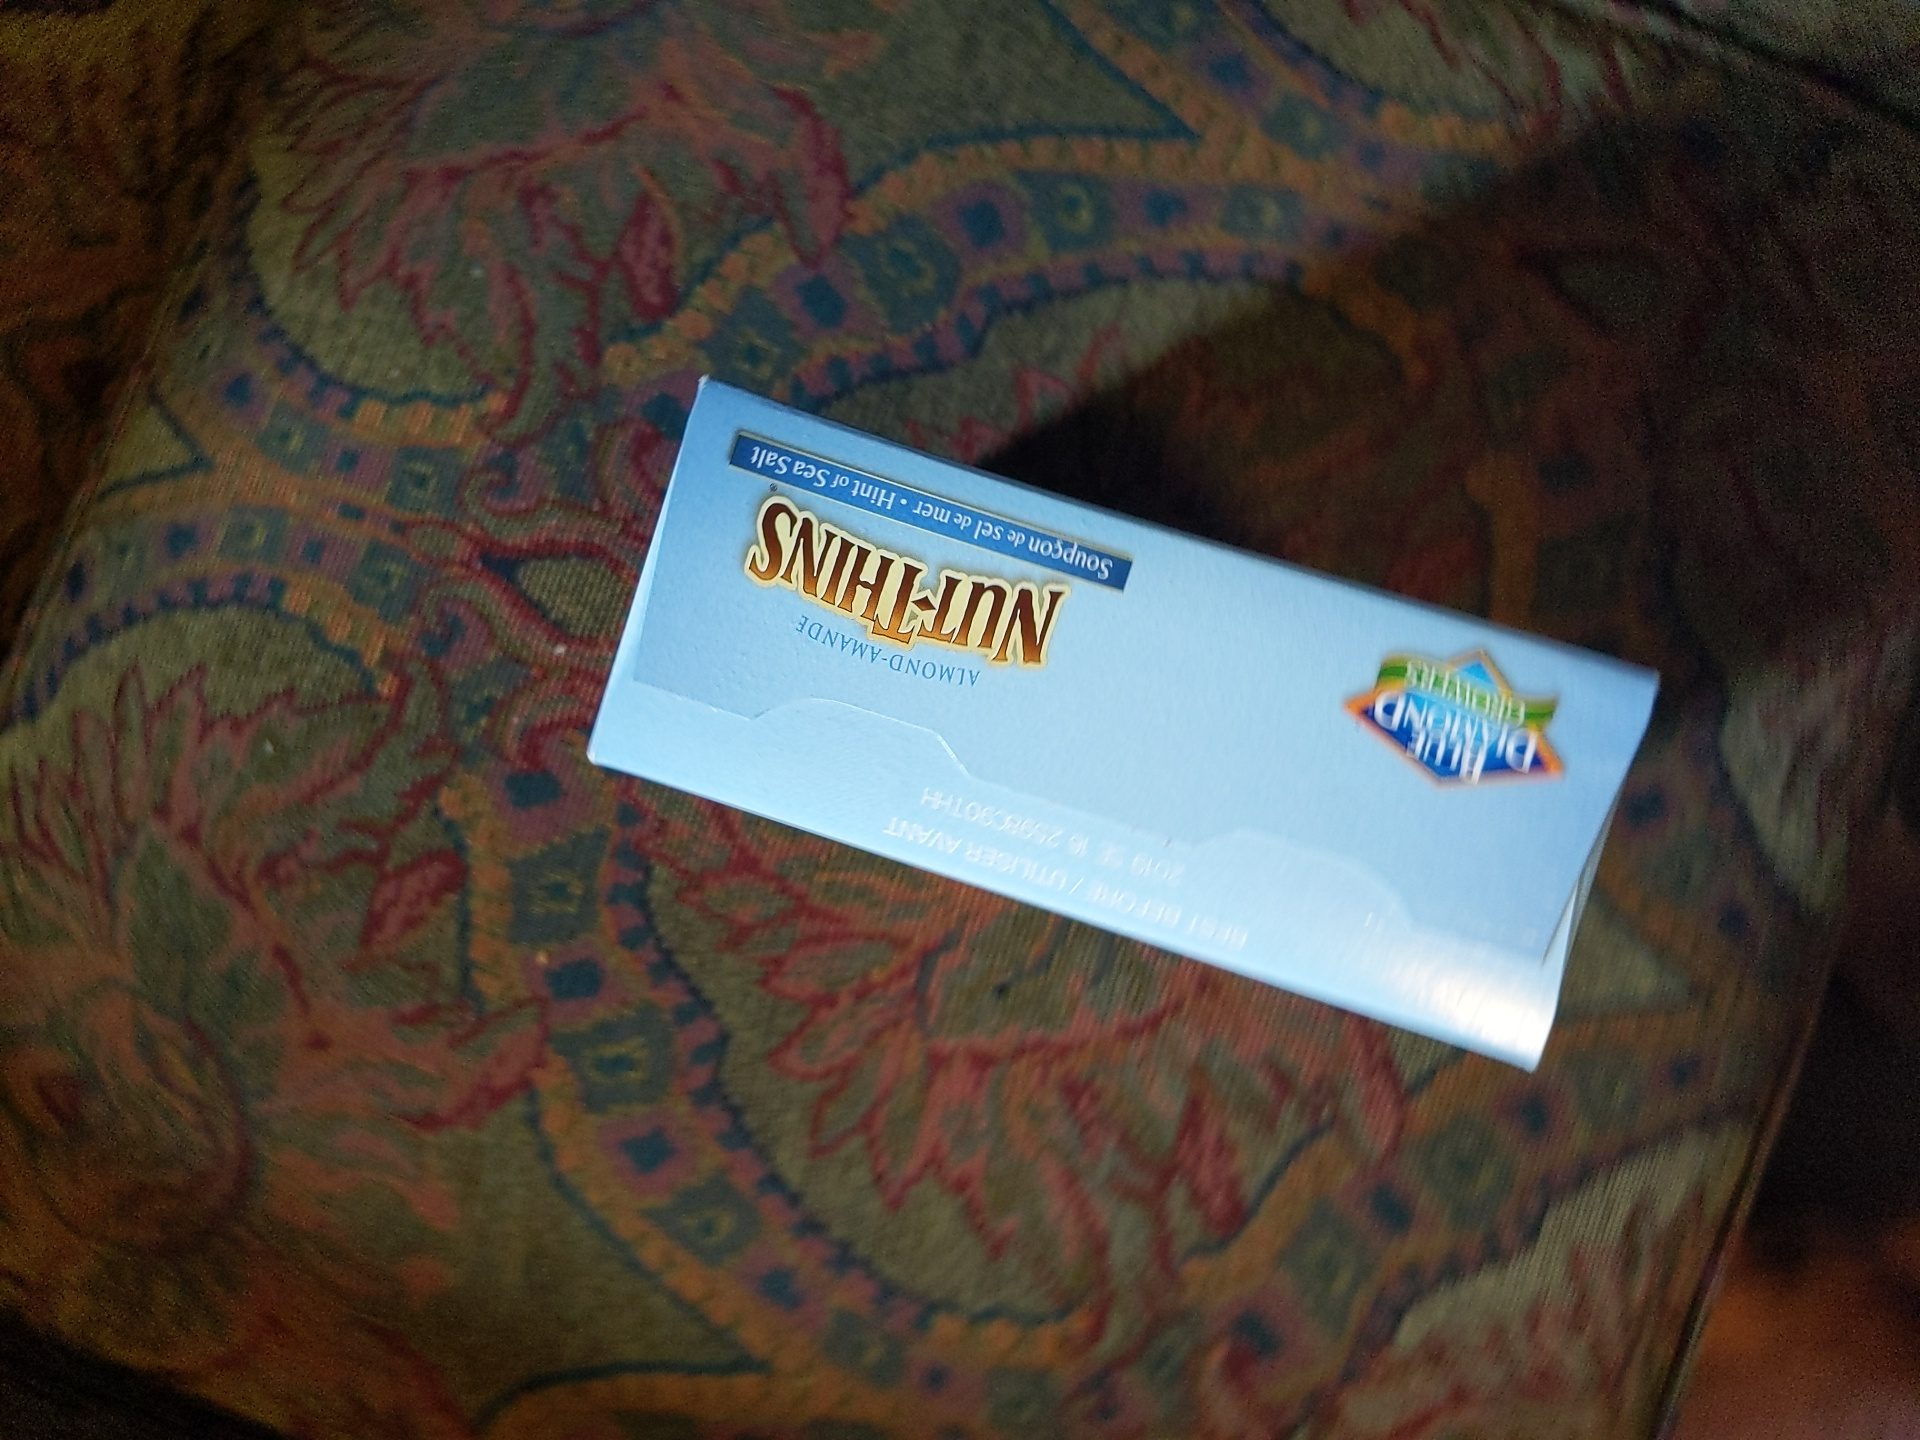blue_diamond_nut_thins_almond_seasalt: (627, 431, 1615, 989)
